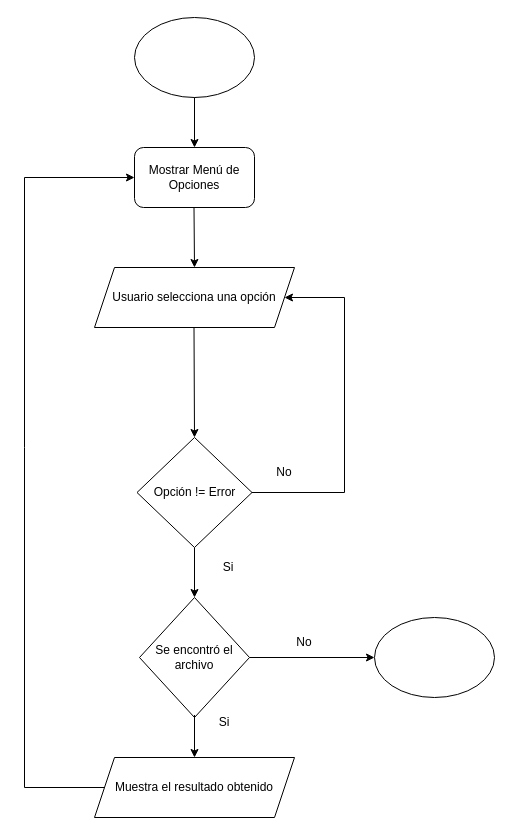
The diagram is 512 pixels wide and 835 high, and some of its shapes have lost their labels. Here are the shapes that lost their labels. From the top down, the centre of each, then its label:
point (194, 57): Inicio
point (434, 657): Fin
